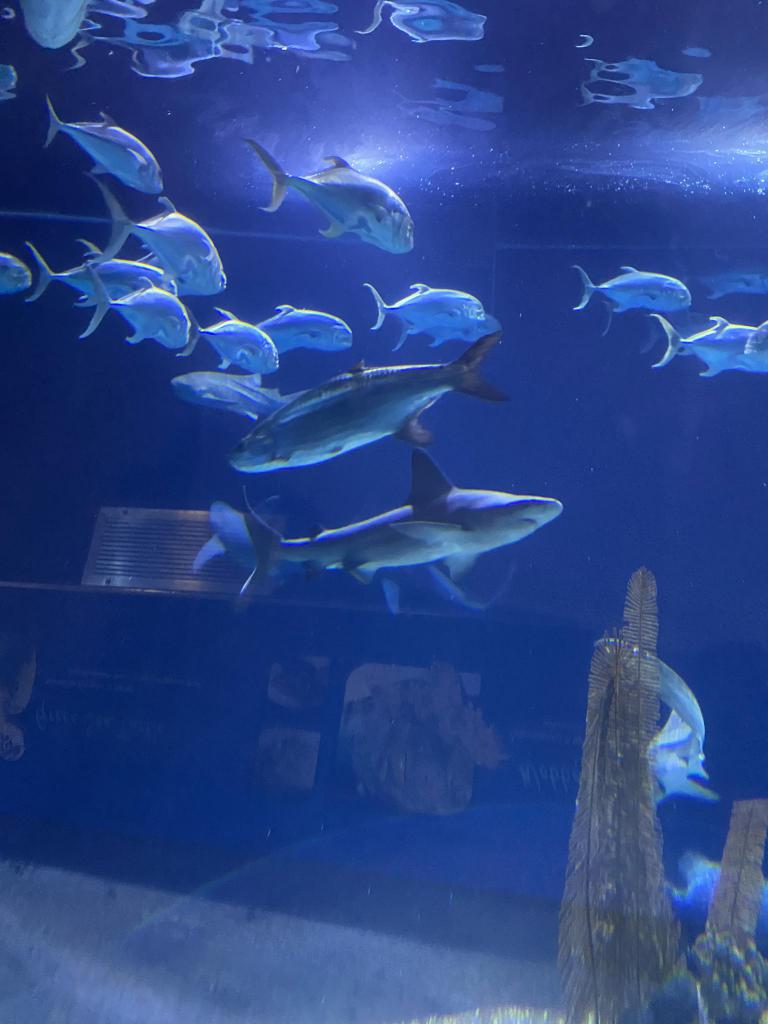fish: (231, 332, 508, 472), (244, 136, 414, 252), (86, 168, 228, 294), (42, 94, 164, 196), (646, 851, 768, 951), (26, 239, 176, 303), (82, 261, 190, 347), (649, 317, 767, 375), (182, 306, 280, 374), (572, 265, 690, 315), (394, 302, 502, 354), (250, 305, 352, 355), (368, 284, 484, 326), (638, 312, 734, 356), (684, 257, 768, 299), (0, 252, 32, 296)
shark: (239, 446, 562, 606), (592, 636, 718, 820), (172, 367, 332, 419)
